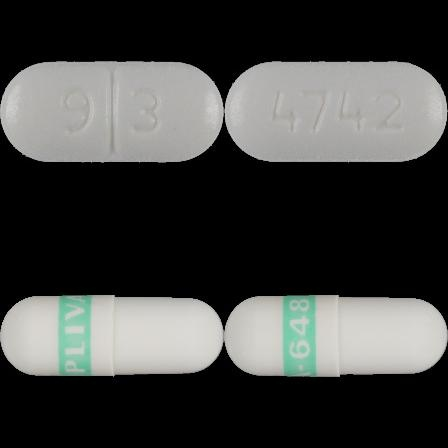66116-455: (0, 0, 224, 224)
